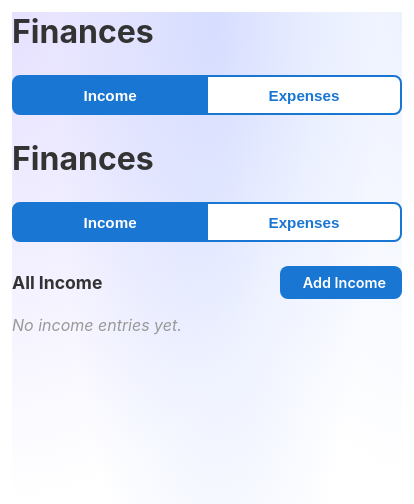
FinancesView › switches to expenses tab on click
This screenshot has width=414, height=504.
Click the 1st button "Expenses".
click(304, 95)  # box [207,75,402,115]
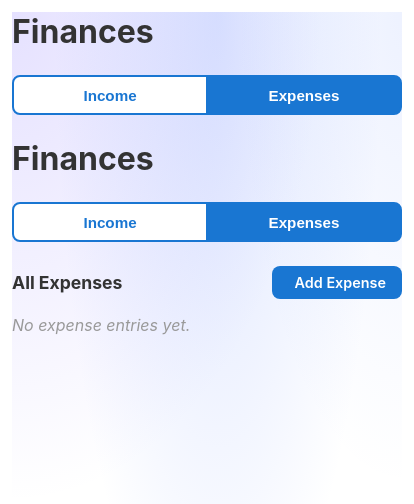
Expected: the text "All Expenses" is shown, [12,272,122,293]
